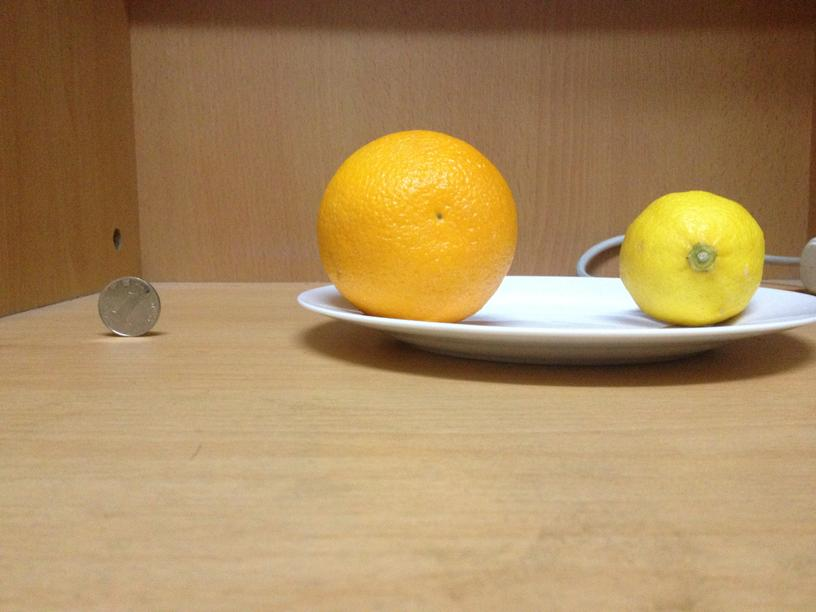coin: (98, 277, 162, 336)
lemon: (619, 189, 765, 324)
orange: (316, 128, 518, 322)
